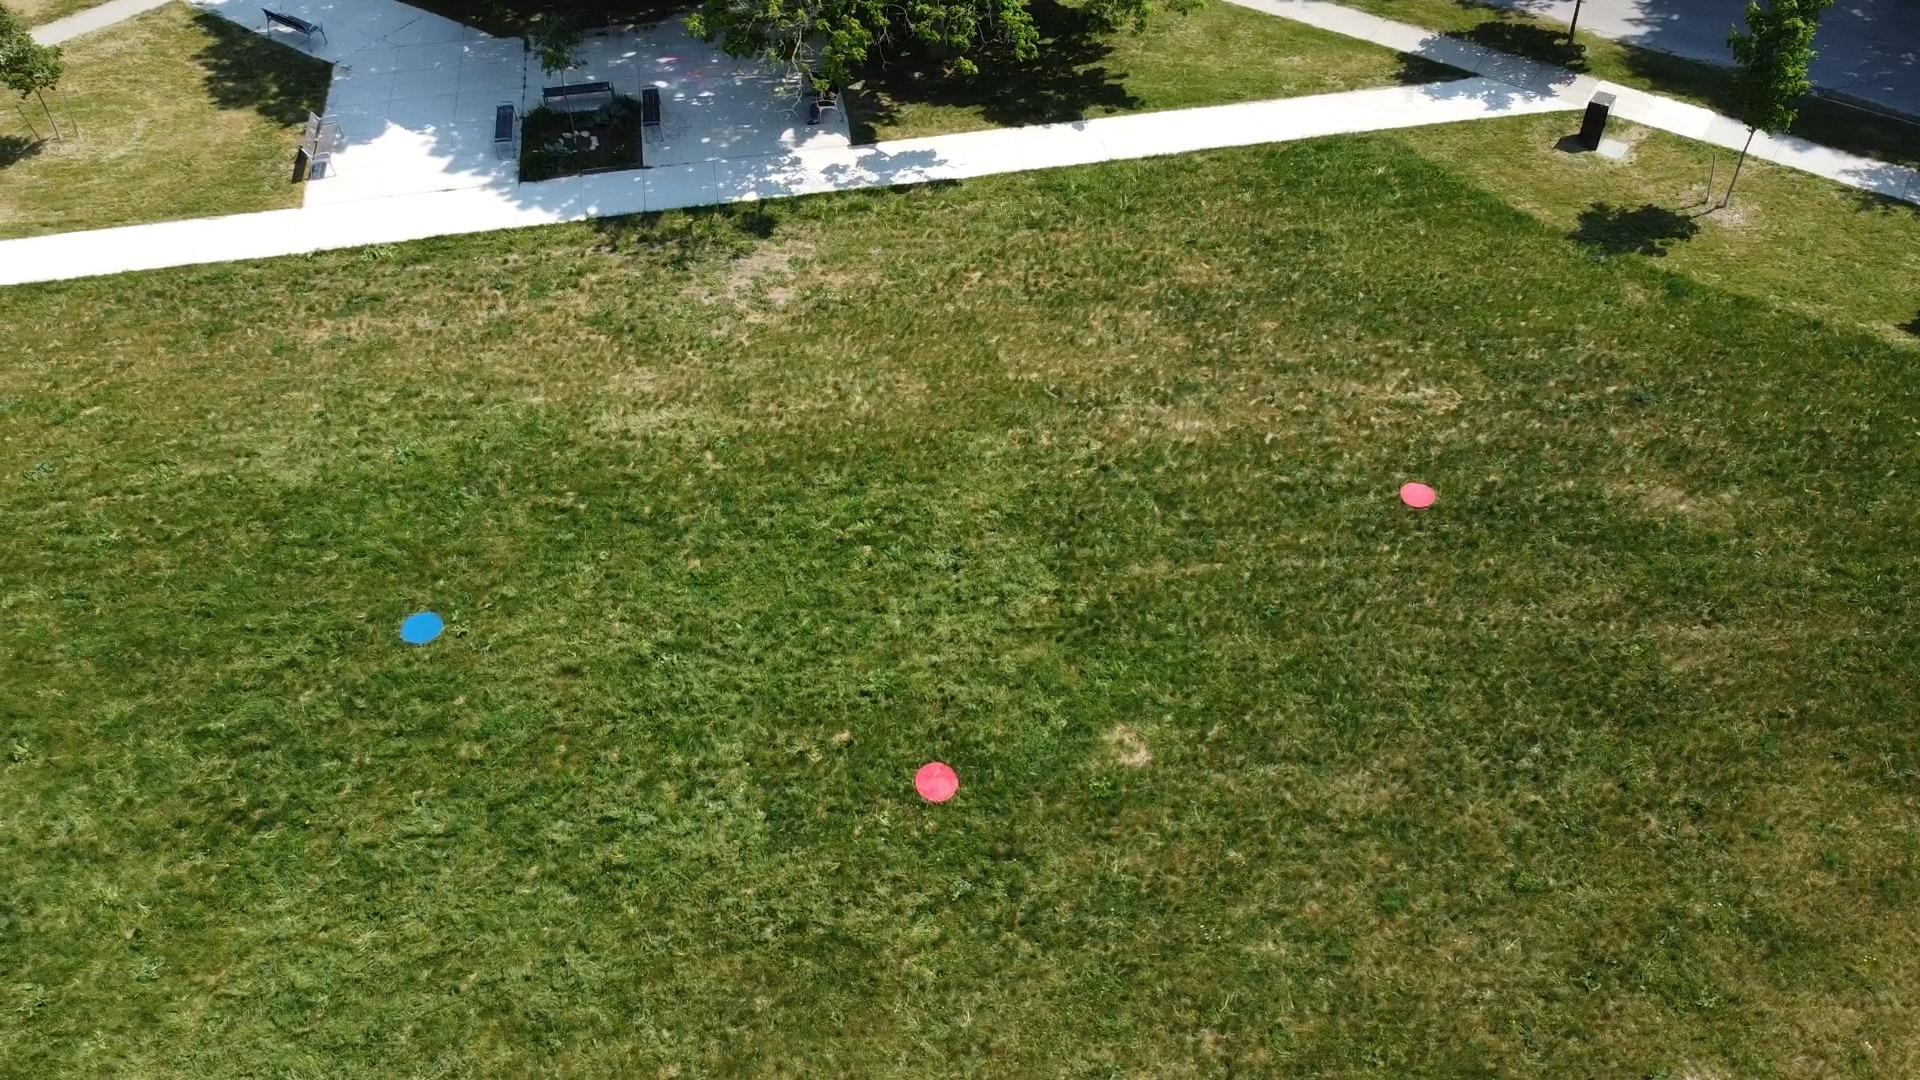Blue: (400, 611, 444, 645)
Red: (913, 761, 961, 803), (1398, 480, 1439, 509)
